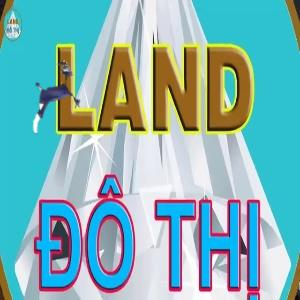drone: (22, 72, 87, 137)
